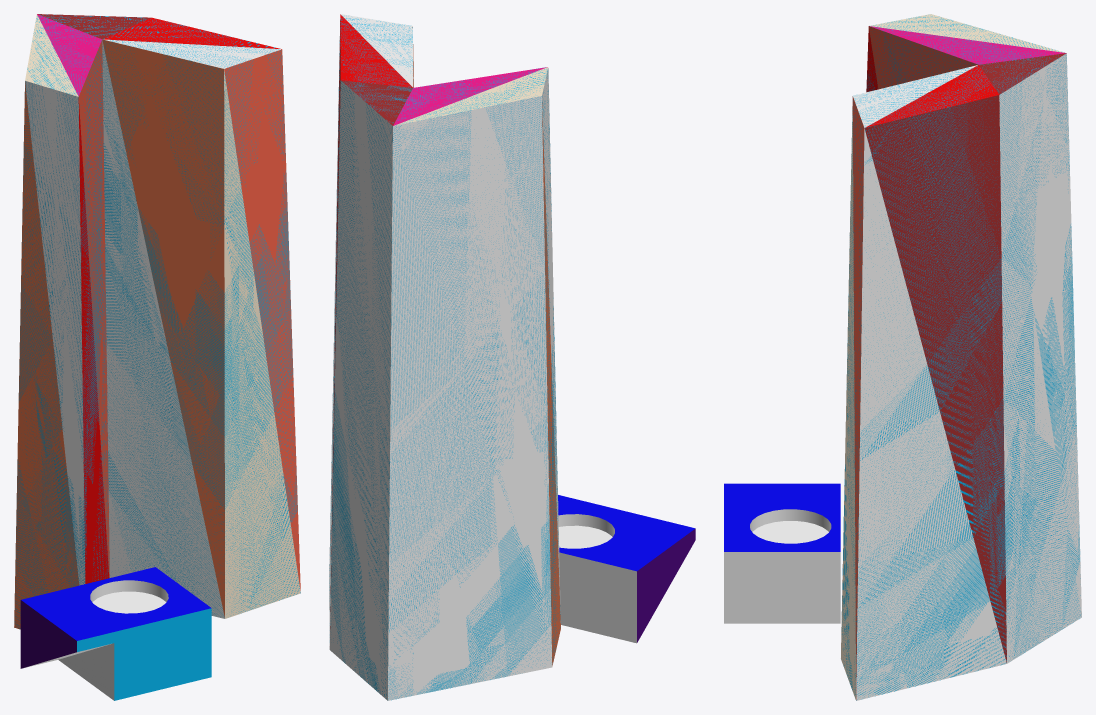
The model's file is dae.textures.dae.
3 renders of one model, left to right at view 1: azimuth 30°, elevation 25°; view 2: azimuth 150°, elevation 25°; view 3: azimuth 270°, elevation 25°, orthographic. The views are drawn at different scales.
Visible parts, largest first — view 1: Obj_000001 (×13), SketchUp (×5); view 2: Obj_000001 (×9), SketchUp (×4); view 3: Obj_000001 (×10), SketchUp (×3).
Part boxes in pixels (x1,y1,x2,y2): Obj_000001 (×13): (14,14,300,629); SketchUp (×5): (20,567,211,700); Obj_000001 (×9): (329,14,560,700); SketchUp (×4): (558,495,695,643); Obj_000001 (×10): (841,14,1081,700); SketchUp (×3): (724,483,840,623).
Size of the model in its own units: 168 by 175 by 305.
